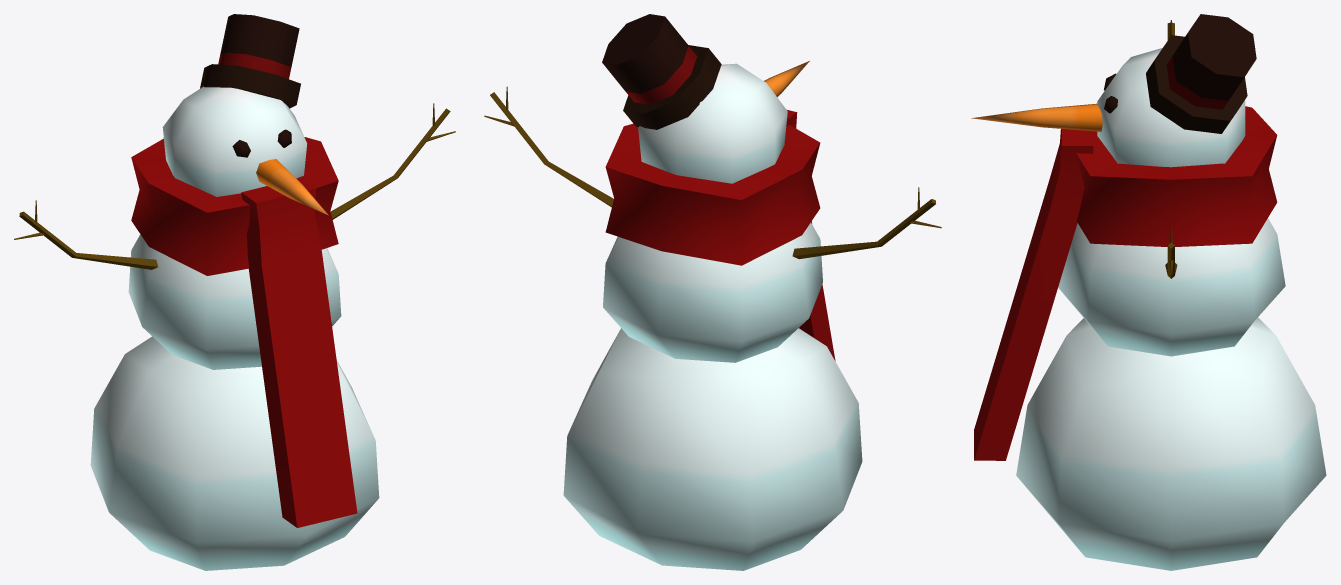
File: Snowman.fbx
3 views of the same model, side by side, from view 1: azimuth 30°, elevation 25°; view 2: azimuth 150°, elevation 25°; view 3: azimuth 270°, elevation 25° (orthographic). The views are drawn at different scales.
Visible parts, largest first — view 1: Snowman; view 2: Snowman; view 3: Snowman.
Part boxes in pixels (bbox=[...]): Snowman: bbox=[14, 14, 455, 570]; Snowman: bbox=[484, 14, 941, 570]; Snowman: bbox=[971, 14, 1326, 570].
Bounding box in the file's own units: 158 × 174 × 104.
